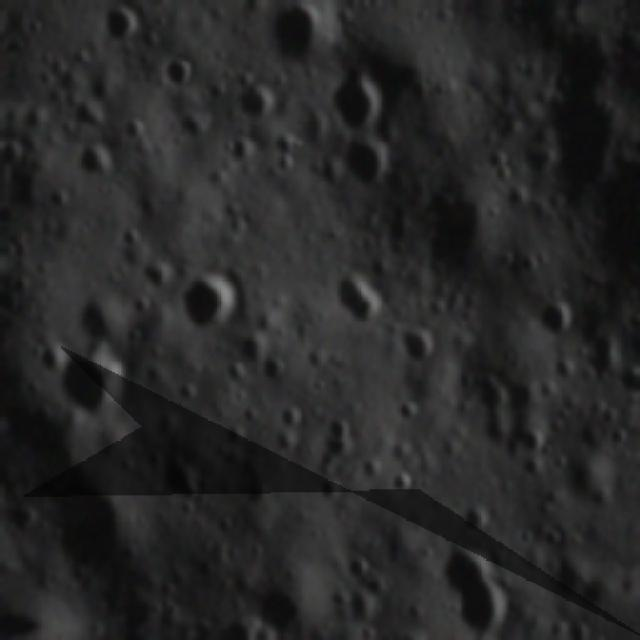crater: (434, 548, 523, 622), (54, 352, 118, 413), (325, 68, 389, 127), (189, 266, 243, 332), (524, 287, 579, 335), (269, 17, 326, 60), (342, 267, 382, 321), (336, 142, 390, 180), (233, 89, 284, 125), (97, 7, 140, 48), (77, 143, 111, 180), (163, 55, 202, 87), (407, 328, 436, 362), (123, 112, 145, 140)
